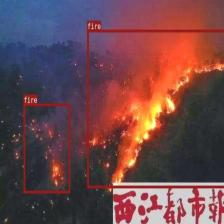fire: (86, 29, 224, 187), (23, 103, 70, 192)
